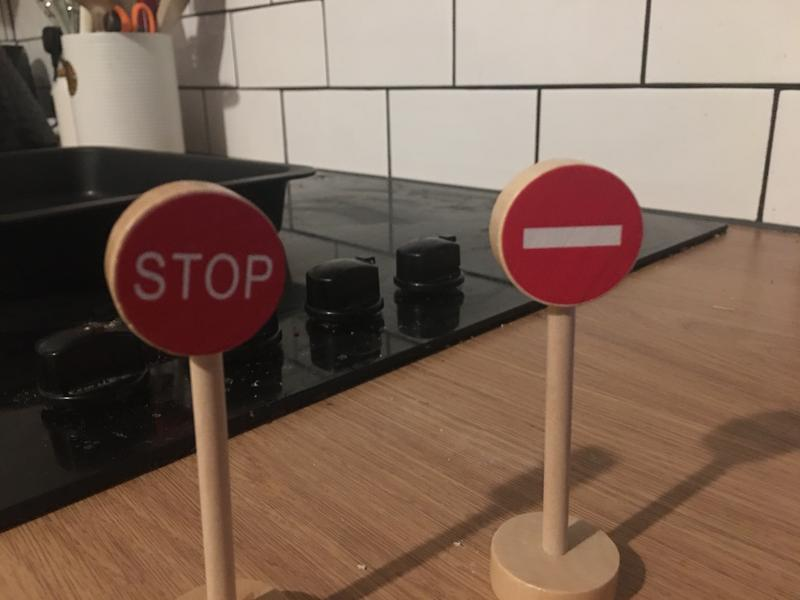Traffic_Sign_No_Entry: (503, 165, 645, 308)
Traffic_Sign_Stop: (117, 192, 288, 358)
